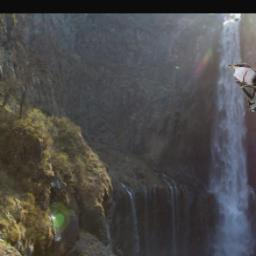Cuckoo: (228, 62, 256, 112)
